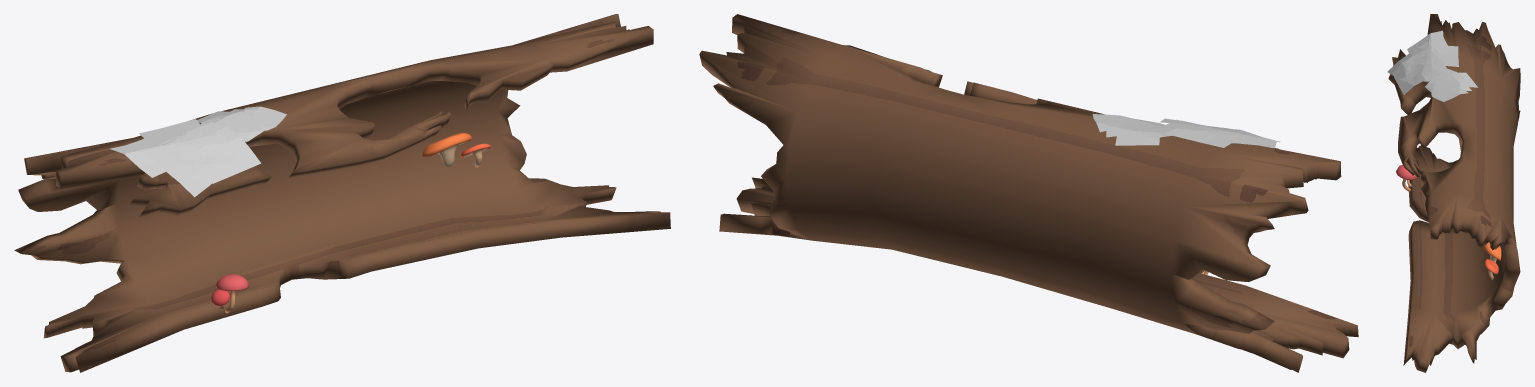
Rendered from TreeTrunk1.fbx.
The picture shows the model from 3 angles, left to right: view 1: azimuth 30°, elevation 25°; view 2: azimuth 150°, elevation 25°; view 3: azimuth 270°, elevation 25°; orthographic projection. The views are drawn at different scales.
Parts seen in each view (by area): view 1: TreeTrunk1, ClusterLeaf.007, ClusterLeaf.005, Mushroom2_TreeTrunk1, Mushroom1_TreeTrunk1; view 2: TreeTrunk1, ClusterLeaf.005, ClusterLeaf.007; view 3: TreeTrunk1, ClusterLeaf.007, ClusterLeaf.005, Mushroom2_TreeTrunk1, Mushroom1_TreeTrunk1.
Boxes of the visible parts, x1,y1,x2,y2 form: TreeTrunk1: (14, 14, 670, 372); ClusterLeaf.007: (110, 119, 261, 197); ClusterLeaf.005: (197, 106, 286, 141); Mushroom2_TreeTrunk1: (422, 133, 491, 167); Mushroom1_TreeTrunk1: (211, 274, 248, 313); TreeTrunk1: (699, 14, 1358, 372); ClusterLeaf.005: (1092, 114, 1176, 145); ClusterLeaf.007: (1160, 118, 1280, 148); TreeTrunk1: (1388, 14, 1520, 372); ClusterLeaf.007: (1387, 30, 1458, 94); ClusterLeaf.005: (1424, 68, 1477, 101); Mushroom2_TreeTrunk1: (1484, 242, 1501, 279); Mushroom1_TreeTrunk1: (1396, 164, 1418, 191).
Bounding box in the file's own units: 853 × 275 × 224.
